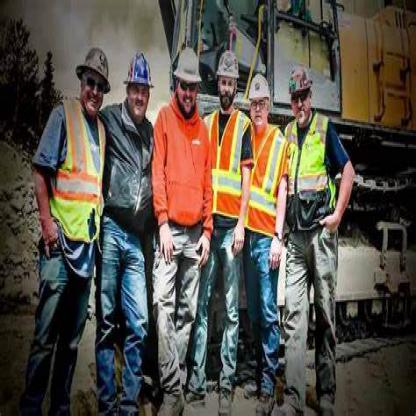person: (27, 42, 102, 407), (151, 25, 211, 414), (285, 51, 347, 413), (100, 22, 155, 407), (210, 36, 248, 414), (248, 61, 284, 414)
